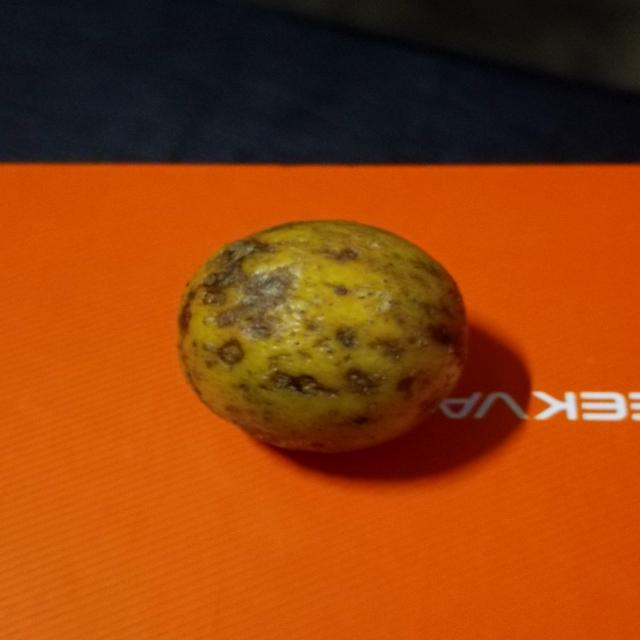black spot: (168, 212, 476, 462)
